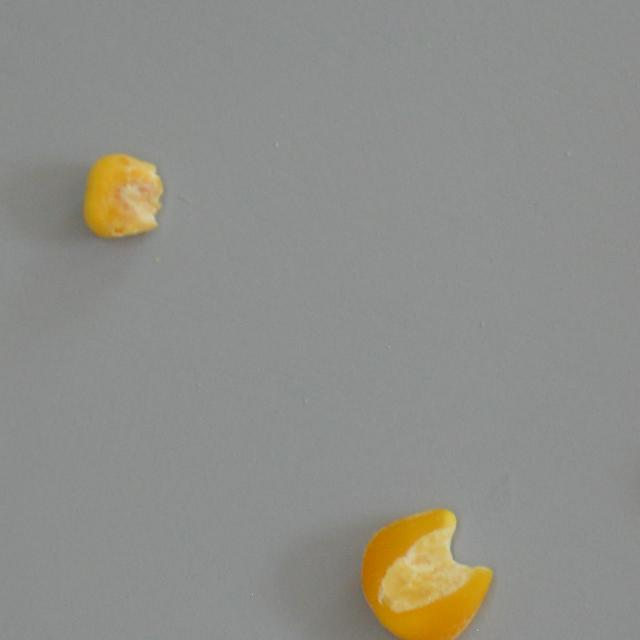dañado: (349, 502, 501, 640), (74, 143, 164, 244)
